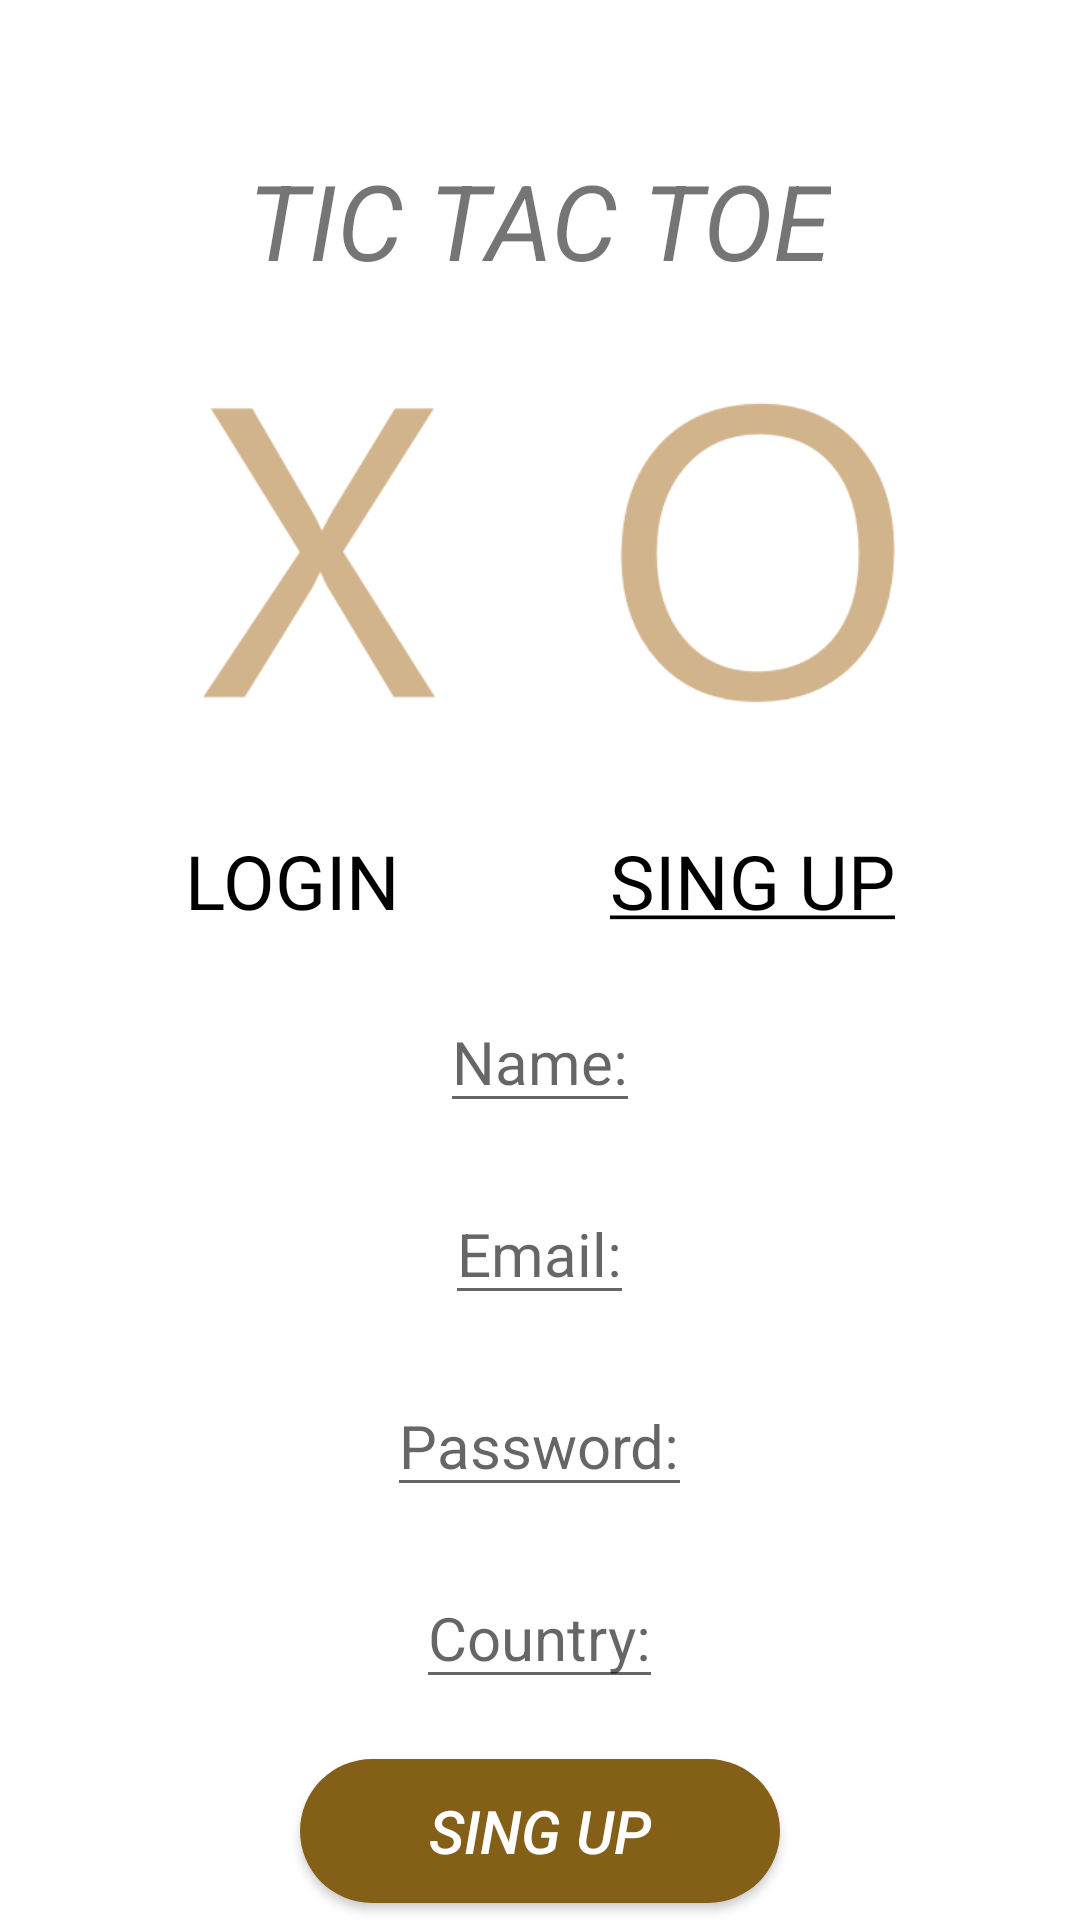

Locate icon controls on the screen. Image size 1080 × 1920, boxes as (x1, y1, x2, y2).
lettercircle: (620, 403, 895, 702)
lettercross: (203, 408, 435, 698)
